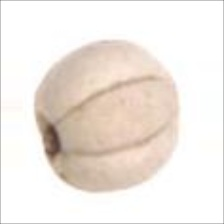L5: (61, 74, 174, 153), (33, 107, 65, 172)
L6: (32, 38, 182, 195)
